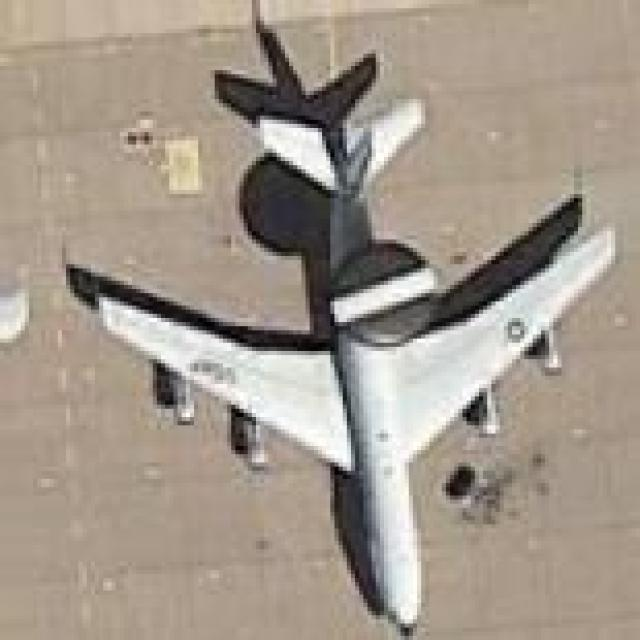E-3_TopDown: (58, 0, 619, 636)
